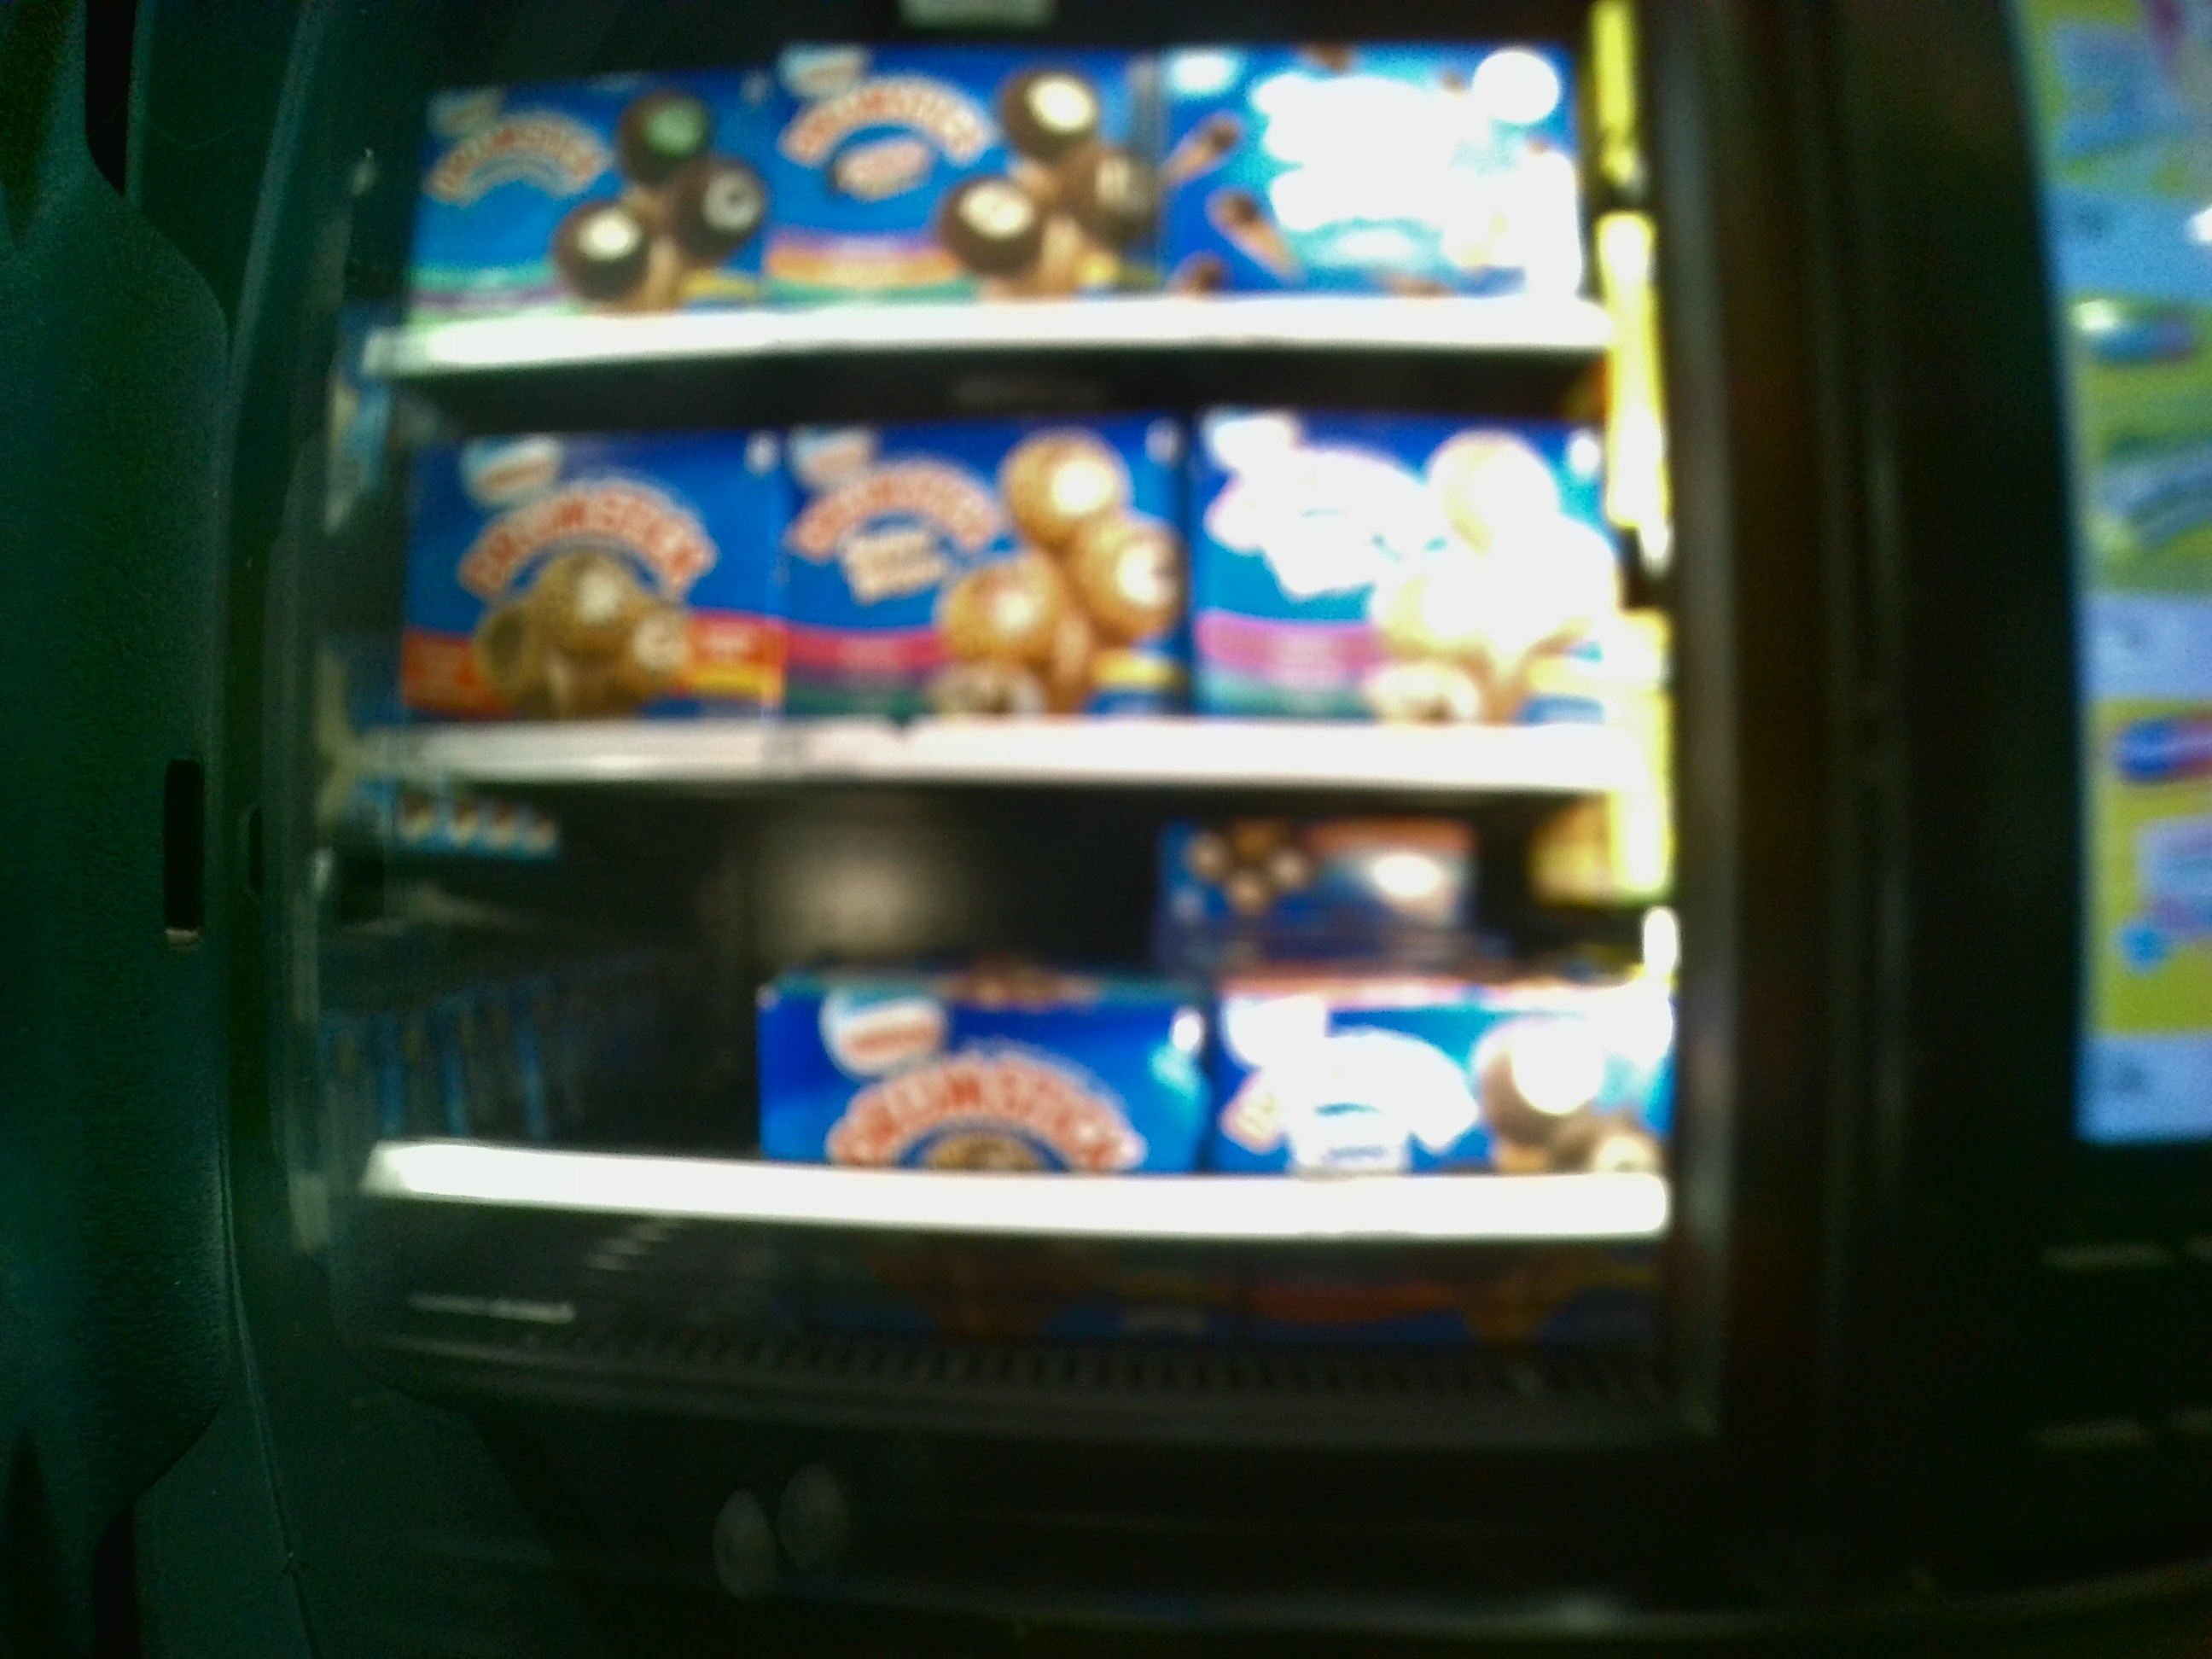shelf: (378, 791, 1665, 1382), (381, 350, 1641, 791)
